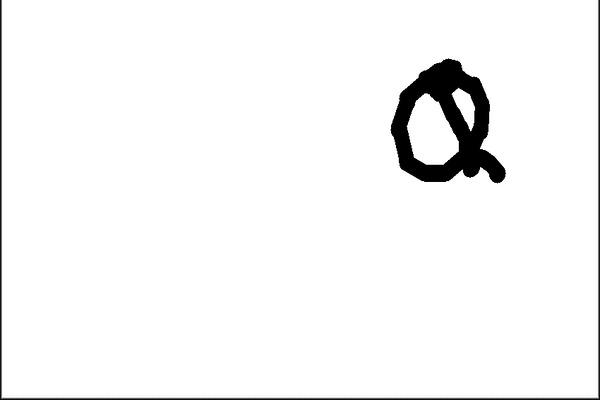Q: (378, 54, 517, 194)
